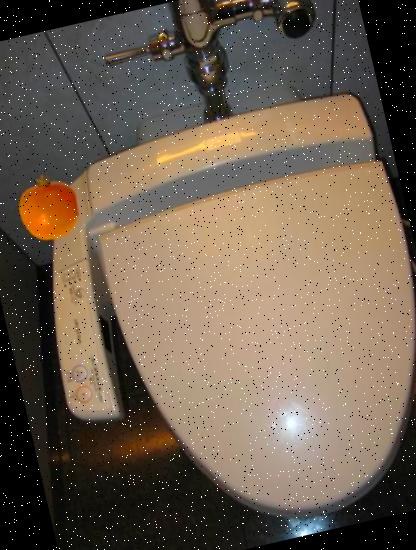Physalis: (8, 166, 88, 246)
